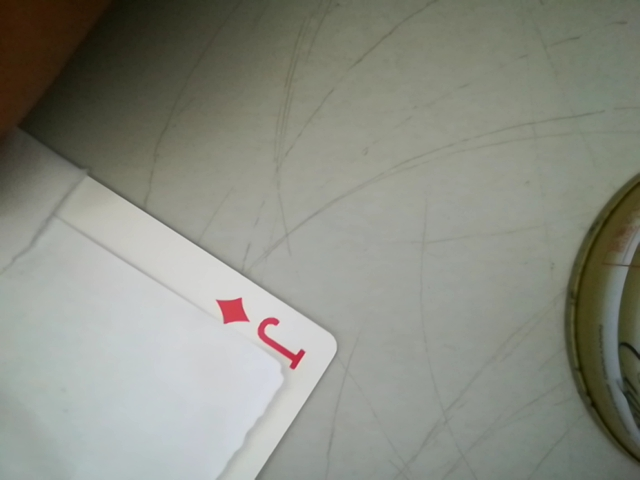fk j: (214, 287, 318, 377)
